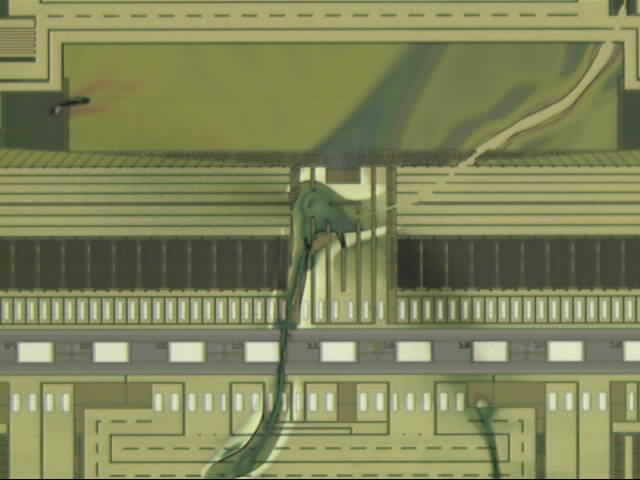COATING BAD: (197, 1, 640, 480)
